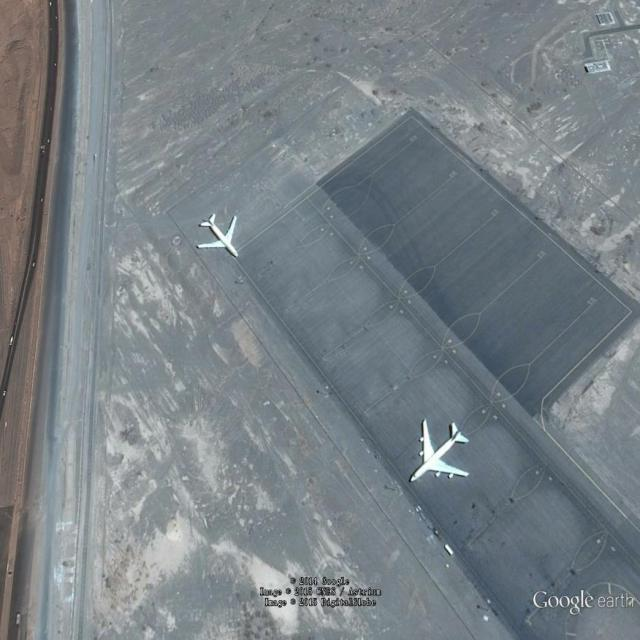aircraft: (405, 411, 479, 490), (194, 208, 247, 263)
